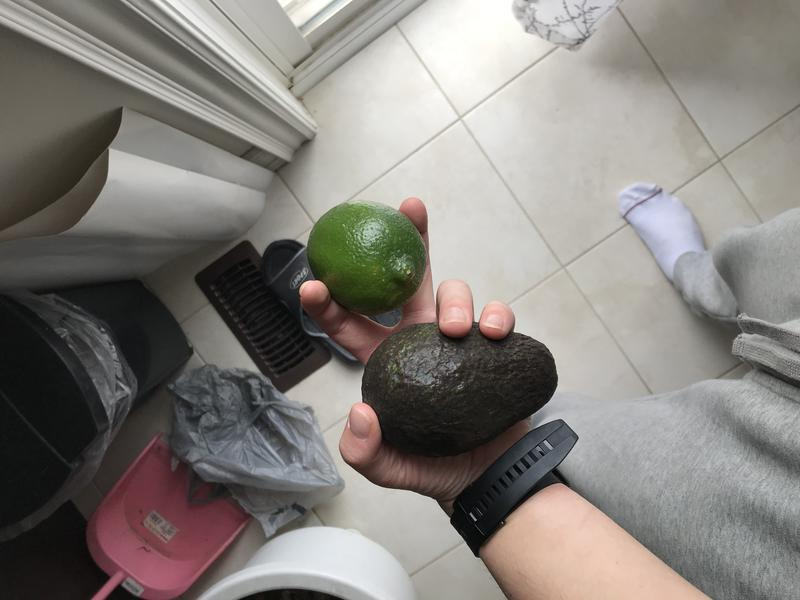avacado: (348, 316, 573, 468)
lime: (298, 195, 434, 317)
